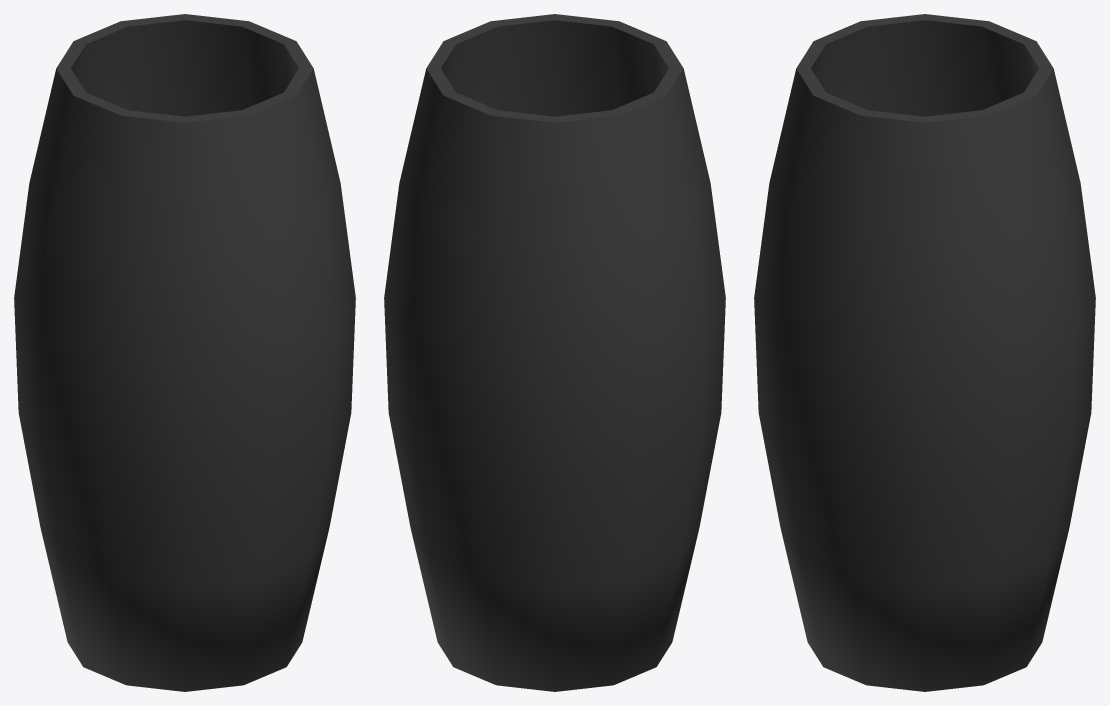
File: Vase_b_01.fbx
3 renders of one model, left to right at view 1: azimuth 30°, elevation 25°; view 2: azimuth 150°, elevation 25°; view 3: azimuth 270°, elevation 25°, orthographic.
Parts seen in each view (by area): view 1: Vase_b_01; view 2: Vase_b_01; view 3: Vase_b_01.
Part boxes in pixels (x1,y1,x2,y2): Vase_b_01: (14, 14, 355, 691); Vase_b_01: (384, 14, 725, 691); Vase_b_01: (754, 14, 1095, 691).
Bounding box in the file's own units: 3.14 × 5.82 × 3.14.
